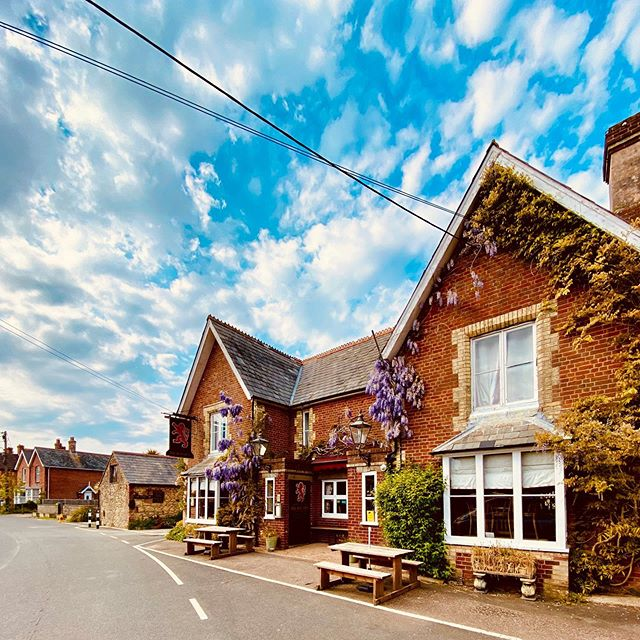building: (186, 168, 636, 591), (91, 452, 185, 525), (8, 444, 113, 503)
sky: (11, 1, 537, 414)
street: (4, 522, 451, 640)
